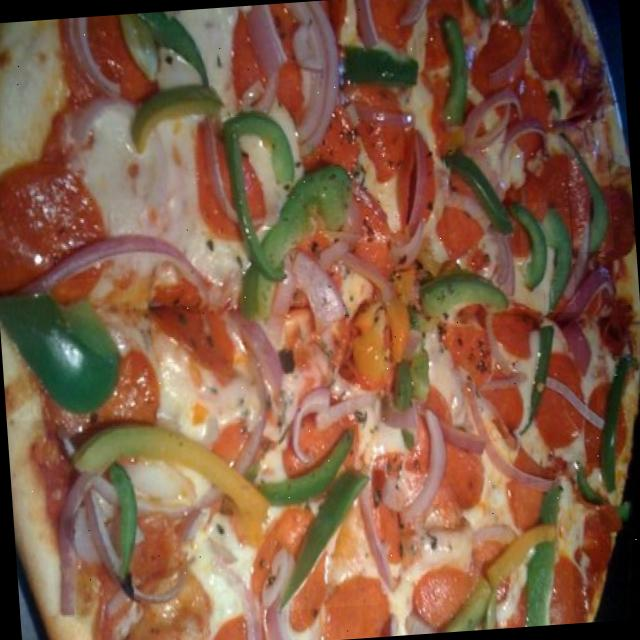Bell Pepper: (72, 418, 267, 546), (0, 274, 134, 421), (219, 110, 311, 324), (265, 474, 380, 610), (431, 524, 546, 632), (252, 421, 358, 506), (515, 479, 576, 626), (129, 78, 227, 156), (441, 142, 513, 240), (405, 266, 514, 328), (129, 7, 213, 87), (564, 118, 613, 251), (342, 30, 422, 110), (390, 316, 437, 452), (593, 352, 640, 479), (514, 320, 562, 434), (572, 459, 630, 537), (433, 14, 471, 128), (539, 205, 576, 312), (518, 200, 552, 290), (494, 0, 545, 25)
pizza: (0, 0, 640, 640)
